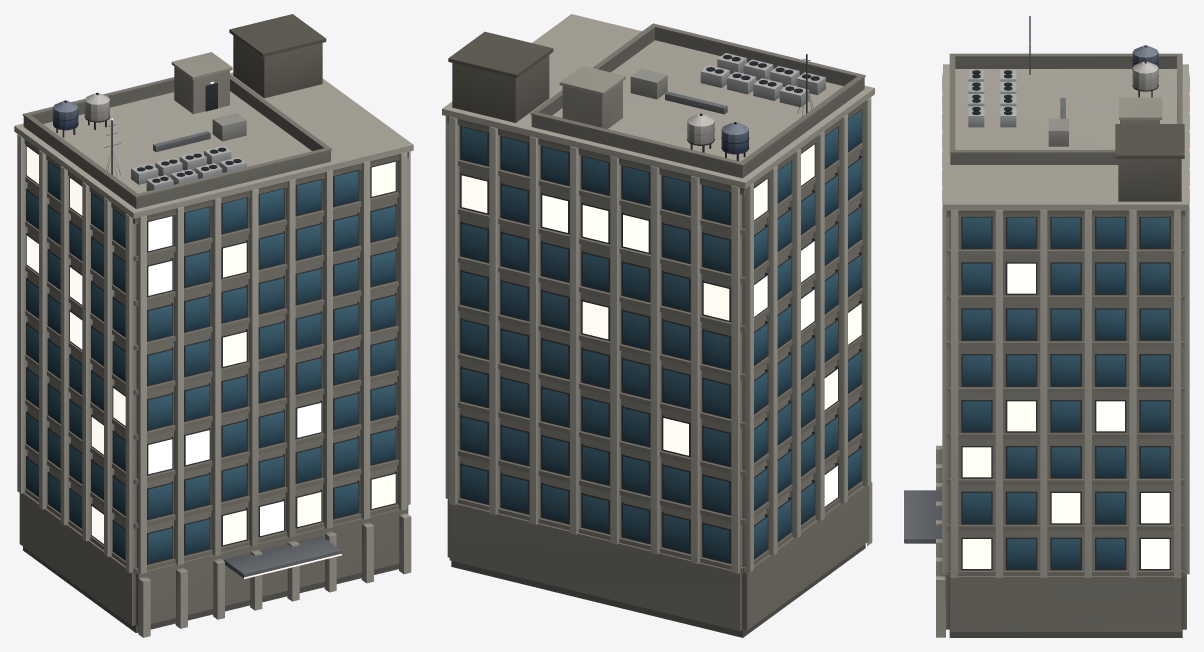
File: oficinas_b.glb
3 views of the same model, side by side, from view 1: azimuth 30°, elevation 25°; view 2: azimuth 150°, elevation 25°; view 3: azimuth 270°, elevation 25° (orthographic). The views are drawn at different scales.
Visible parts, largest first — view 1: oficinas_b; view 2: oficinas_b; view 3: oficinas_b.
Boxes of the visible parts, x1,y1,x2,y2 form: oficinas_b: (14, 14, 413, 637); oficinas_b: (442, 14, 874, 637); oficinas_b: (903, 14, 1189, 637).
Size of the model in its own units: 23.1 by 37.85 by 19.81.
